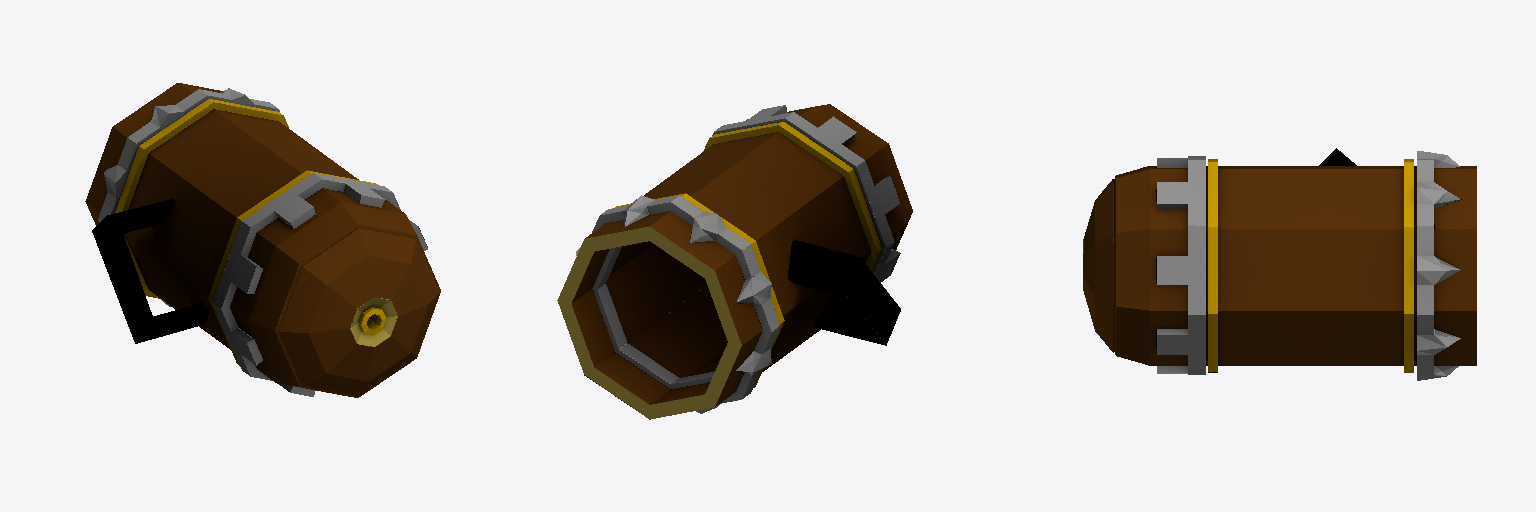
3 views of the same model, side by side, from view 1: azimuth 30°, elevation 25°; view 2: azimuth 150°, elevation 25°; view 3: azimuth 270°, elevation 25° (orthographic).
Parts seen in each view (by area): view 1: Circle; view 2: Circle; view 3: Circle.
Part boxes in pixels (bbox=[...]): Circle: bbox=[85, 83, 440, 397]; Circle: bbox=[557, 104, 912, 419]; Circle: bbox=[1083, 148, 1476, 380].
Size of the model in its own units: 6.98 by 5.82 by 9.82.
5 materials, 1 textured.